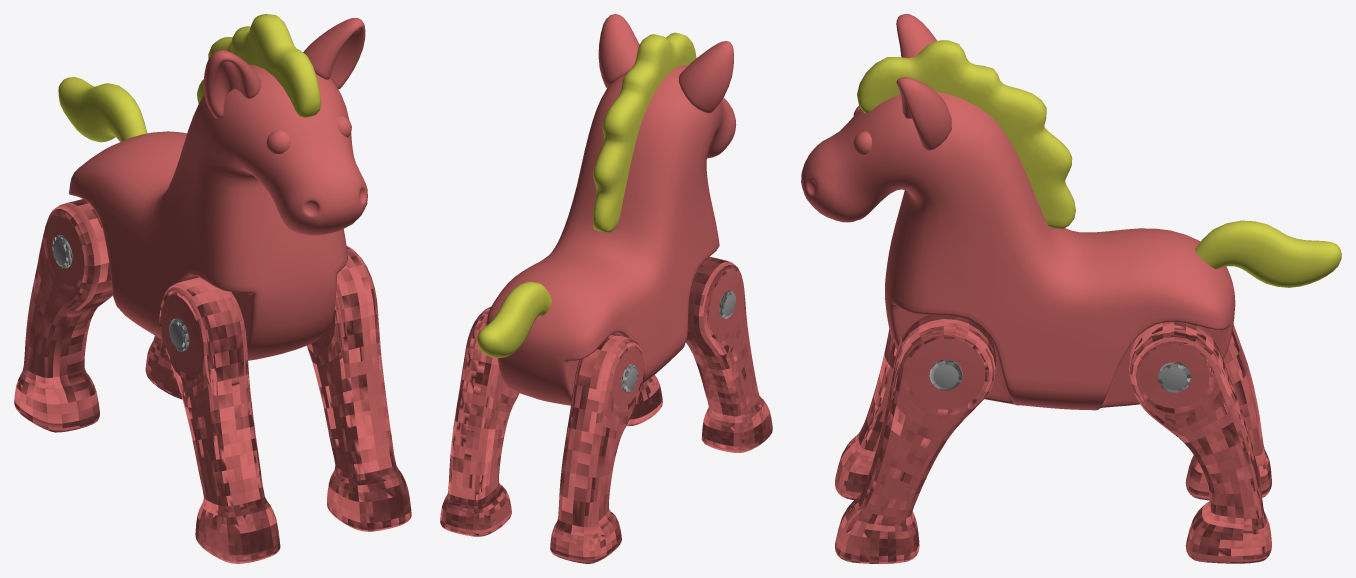
Rendered from SM_horse.gltf.
3 views of the same model, side by side, from view 1: azimuth 30°, elevation 25°; view 2: azimuth 150°, elevation 25°; view 3: azimuth 270°, elevation 25° (orthographic). The views are drawn at different scales.
Visible parts, largest first — view 1: SM_horse_body, SM_horse_leg_LF, SM_horse_leg_RF, SM_horse_leg_LB, SM_horse_hair, SM_horse_leg_RB, SM_horse_bolt; view 2: SM_horse_body, SM_horse_leg_LB, SM_horse_leg_LF, SM_horse_hair, SM_horse_leg_RB, SM_horse_leg_RF, SM_horse_bolt; view 3: SM_horse_body, SM_horse_leg_RF, SM_horse_hair, SM_horse_leg_RB, SM_horse_leg_LF, SM_horse_leg_LB, SM_horse_bolt.
Part boxes in pixels (x1,y1,x2,y2): SM_horse_body: (69, 18, 367, 360); SM_horse_leg_LF: (159, 277, 280, 563); SM_horse_leg_RF: (307, 246, 411, 531); SM_horse_leg_LB: (14, 199, 112, 432); SM_horse_hair: (58, 14, 321, 142); SM_horse_leg_RB: (145, 335, 182, 399); SM_horse_bolt: (52, 235, 189, 351); SM_horse_body: (486, 14, 736, 405); SM_horse_leg_LB: (550, 334, 644, 563); SM_horse_leg_LF: (685, 257, 772, 452); SM_horse_hair: (477, 32, 696, 357); SM_horse_leg_RB: (440, 306, 519, 536); SM_horse_leg_RF: (626, 375, 662, 426); SM_horse_bolt: (621, 290, 735, 392); SM_horse_body: (801, 14, 1235, 410); SM_horse_leg_RF: (835, 314, 995, 563); SM_horse_hair: (857, 40, 1341, 287); SM_horse_leg_RB: (1129, 321, 1271, 563); SM_horse_leg_LF: (835, 329, 897, 499); SM_horse_leg_LB: (1185, 324, 1271, 500); SM_horse_bolt: (929, 359, 1191, 392).
Size of the model in its own units: 79.61 by 191 by 196.
